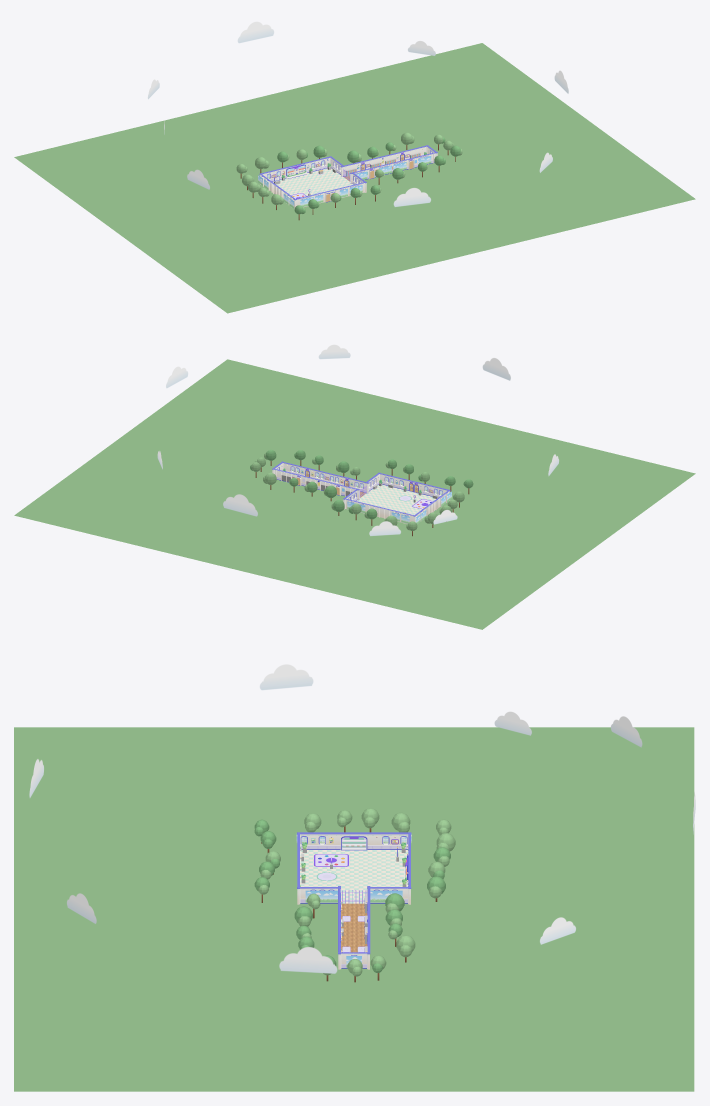
Rendered from hub.glb.
The picture shows the model from 3 angles, top to bottom: view 1: azimuth 30°, elevation 25°; view 2: azimuth 150°, elevation 25°; view 3: azimuth 270°, elevation 25°; orthographic projection. The views are drawn at different scales.
Visible parts, largest first — view 1: backdrop__lawn, hub_static_hall, backdrop__trees, backdrop__clouds, hub_static_corridor, hub_window_sky; view 2: backdrop__lawn, hub_static_hall, backdrop__trees, backdrop__clouds, hub_static_corridor, hub_window_sky; view 3: backdrop__lawn, hub_static_hall, backdrop__trees, backdrop__clouds, hub_static_corridor, hub_window_sky.
Boxes of the visible parts, x1,y1,x2,y2 form: backdrop__lawn: (14, 43, 695, 313); hub_static_hall: (259, 156, 366, 209); backdrop__trees: (236, 132, 462, 220); backdrop__clouds: (147, 21, 568, 206); hub_static_corridor: (335, 145, 437, 182); hub_window_sky: (258, 152, 431, 208); backdrop__lawn: (14, 359, 695, 629); hub_static_hall: (343, 472, 450, 523); backdrop__trees: (250, 449, 473, 536); backdrop__clouds: (157, 344, 558, 535); hub_static_corridor: (272, 461, 374, 499); hub_window_sky: (278, 467, 451, 523); backdrop__lawn: (14, 727, 694, 1091); hub_static_hall: (297, 832, 411, 903); backdrop__trees: (254, 808, 455, 982); backdrop__clouds: (29, 664, 695, 973); hub_static_corridor: (297, 888, 411, 969); hub_window_sky: (296, 833, 411, 967).
Size of the model in its own units: 190 by 30.68 by 150.
10 materials, 8 textured.
